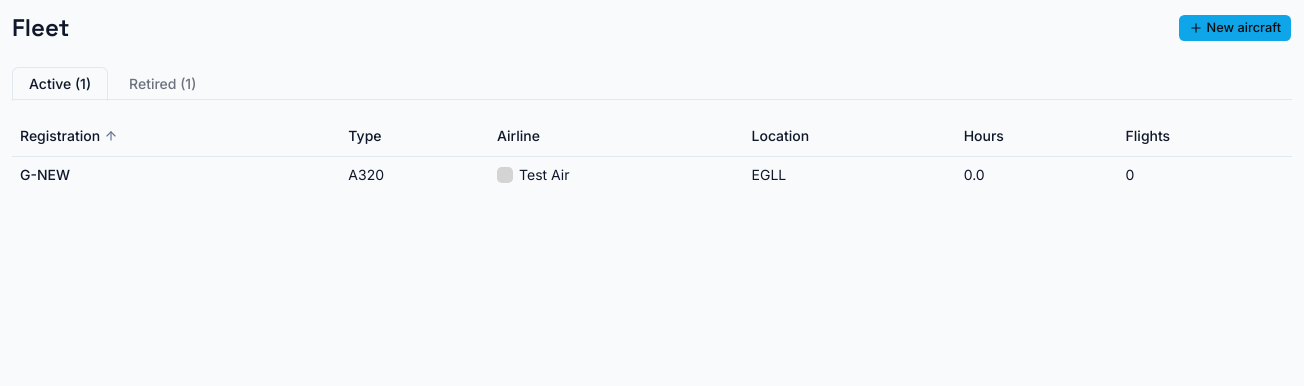
Test case: FleetView › lists retired aircraft separately, linking to a still-active replacement
Expected: the text "G-NEW" is shown, [12,156,340,192]
Expected: the text "G-OLD" is not shown
Step 1. Click the tab "Retired (1)" → (163, 84), box [112,67,213,101]
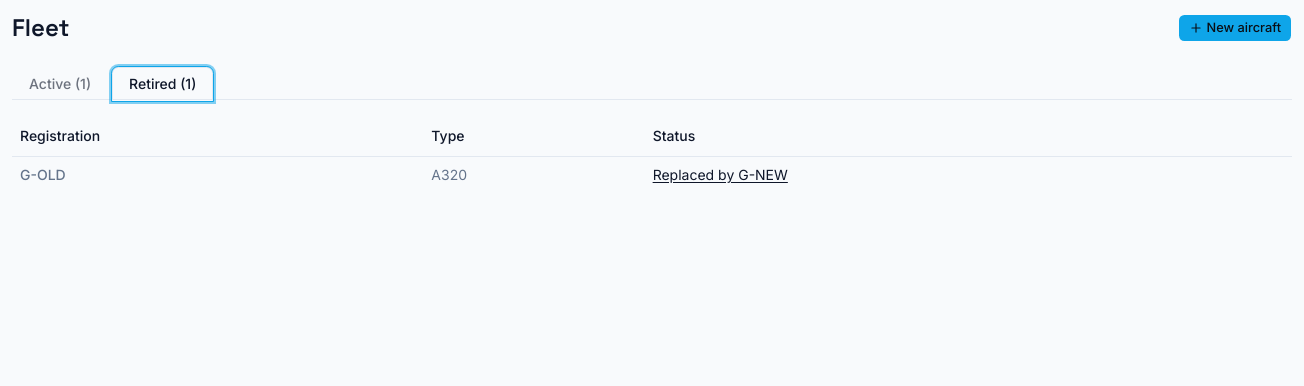
Now the text "G-OLD" is shown, box [12,156,423,192]
Step 2. Click the button "Replaced by G-NEW" → (720, 174), box [653,164,788,184]
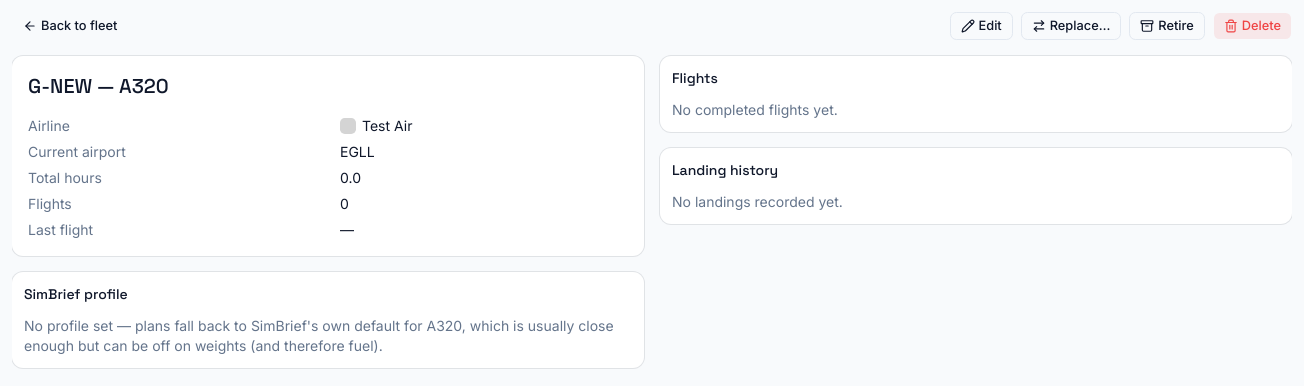
Now the text "G-NEW — A320" is shown, box [28,73,169,99]
